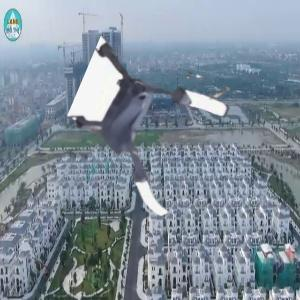drone: (67, 58, 222, 213)
